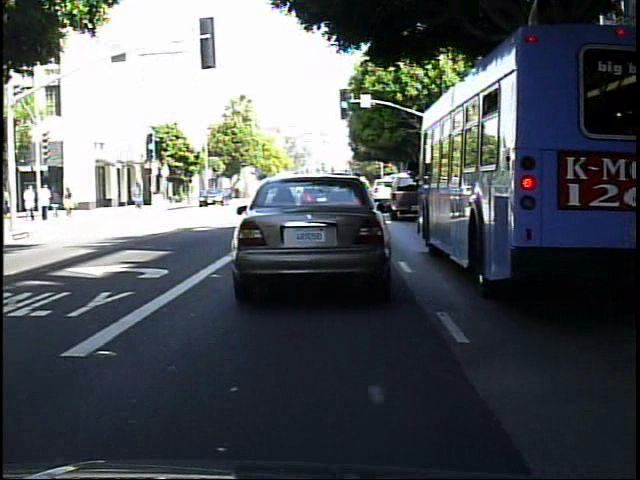person: (128, 178, 146, 213), (39, 181, 54, 222), (61, 182, 76, 220), (23, 181, 37, 221), (50, 184, 64, 221), (66, 182, 67, 221)
